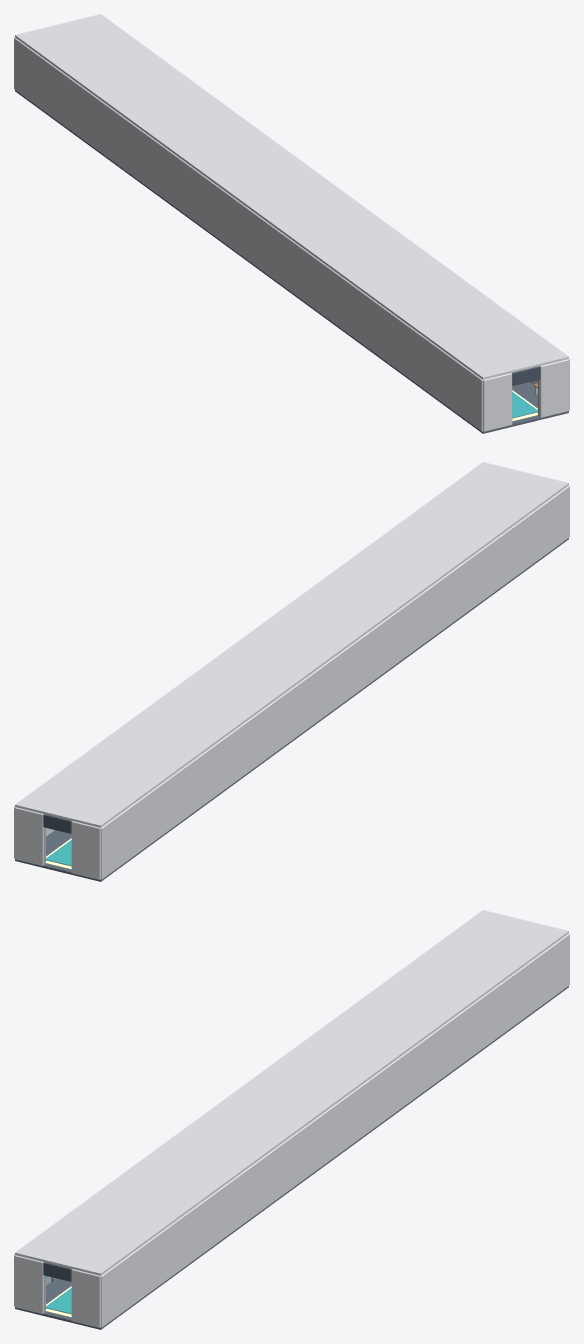
File: crew-corridor.glb
3 views of the same model, one above another, from view 1: azimuth 30°, elevation 25°; view 2: azimuth 150°, elevation 25°; view 3: azimuth 330°, elevation 25° (orthographic).
Parts seen in each view (by area): view 1: CM_BULKHEAD, CM_DECK; view 2: CM_BULKHEAD, CM_DECK; view 3: CM_BULKHEAD, CM_DECK.
Part boxes in pixels (x1,y1,x2,y2): CM_BULKHEAD: (14, 14, 569, 431); CM_DECK: (15, 90, 568, 433); CM_BULKHEAD: (14, 462, 569, 879); CM_DECK: (15, 538, 568, 881); CM_BULKHEAD: (14, 910, 569, 1327); CM_DECK: (15, 986, 568, 1329).
Bounding box in the file's own units: 5 × 3.04 × 46.
